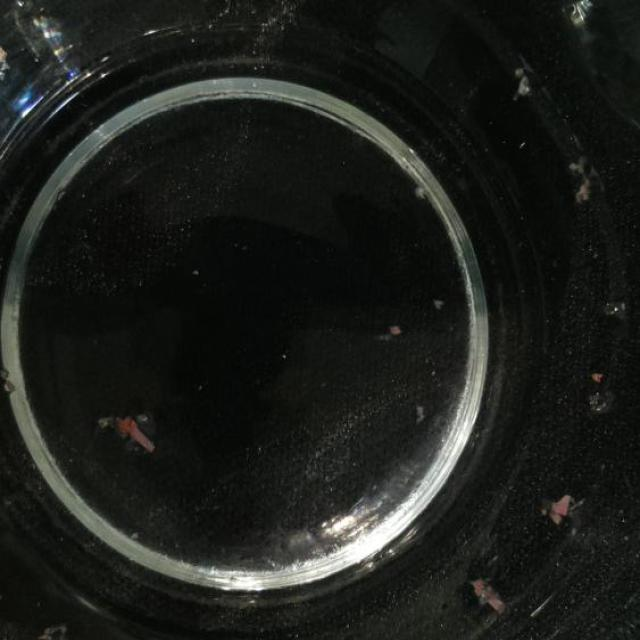fiber: (97, 409, 163, 456), (470, 579, 519, 616), (570, 154, 601, 210), (586, 368, 616, 414), (545, 493, 586, 522), (508, 65, 540, 98), (602, 294, 634, 327), (380, 315, 410, 344), (566, 2, 596, 27), (414, 404, 430, 430), (414, 182, 432, 198), (434, 293, 440, 309)
